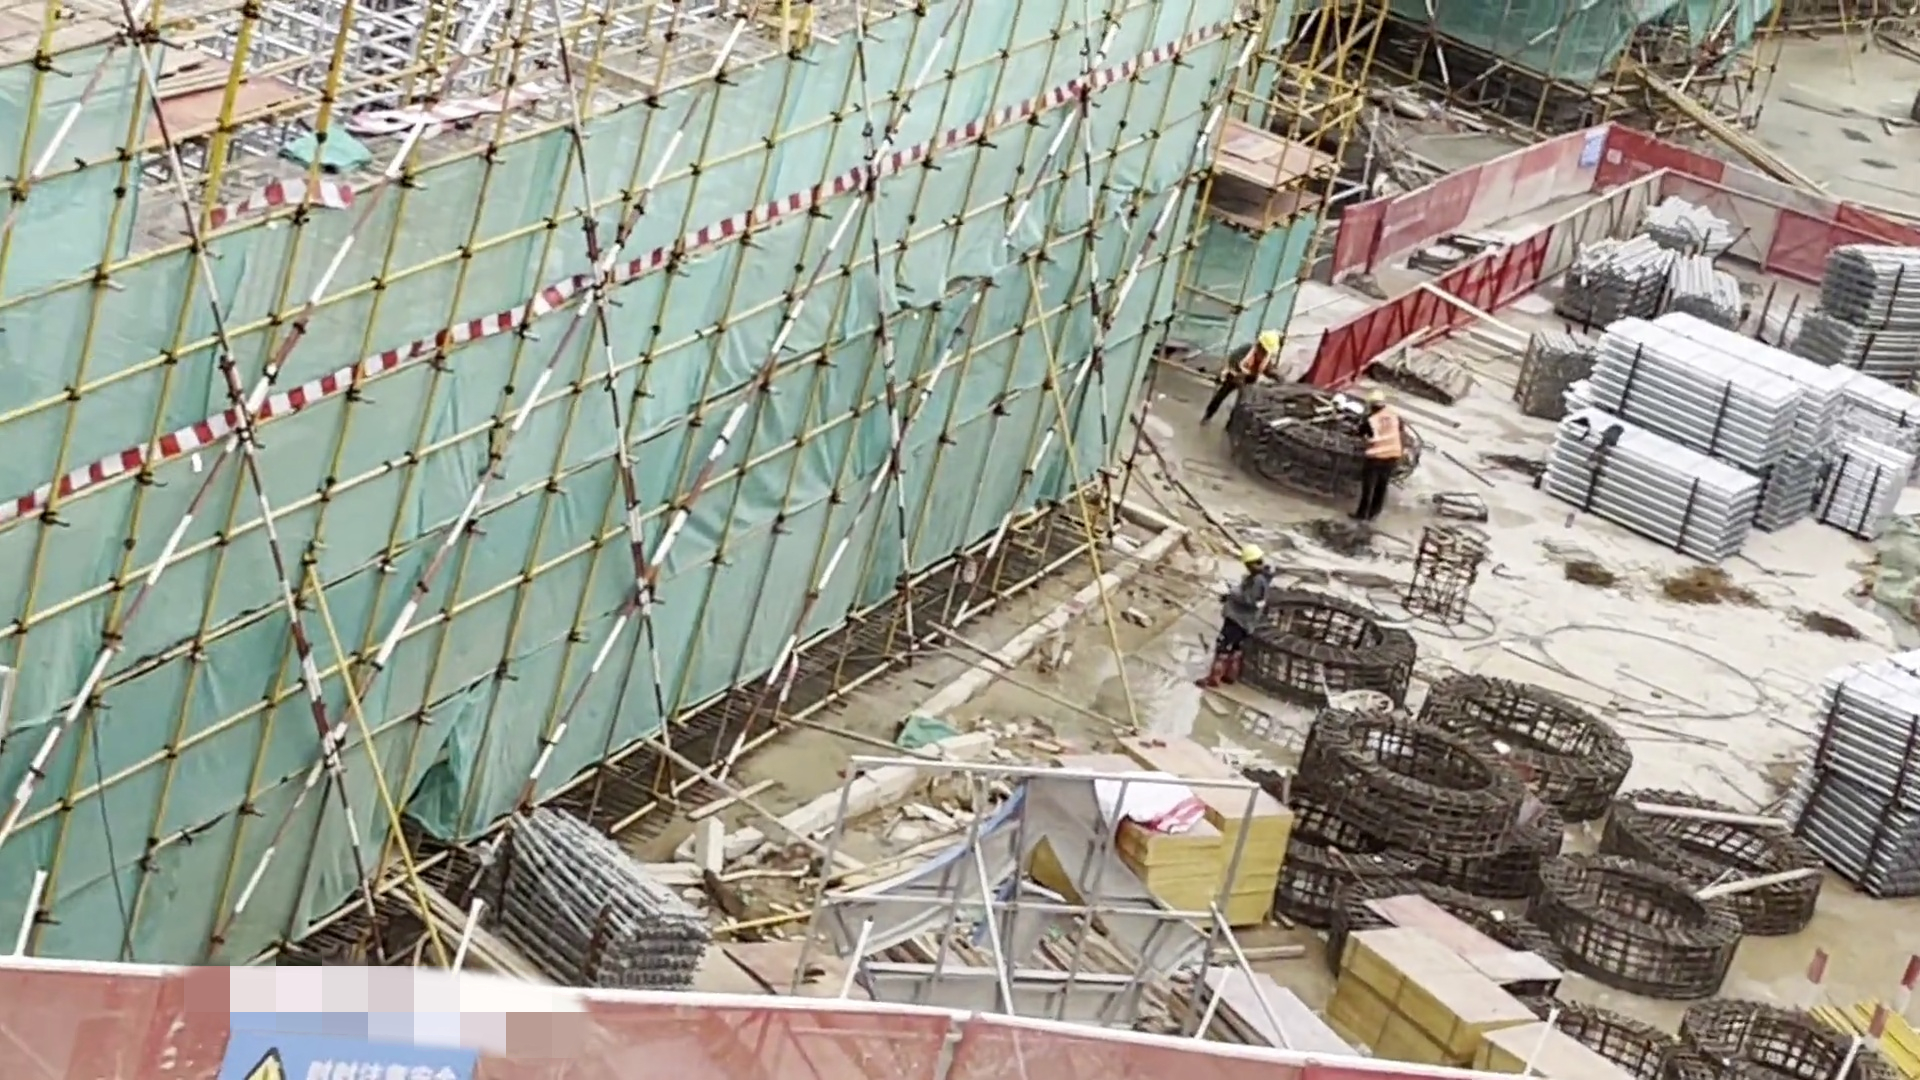board: (1066, 702, 1334, 911), (1316, 886, 1567, 1080)
fence: (1, 927, 1339, 1064), (1353, 60, 1754, 372)
helmet: (1260, 328, 1294, 361), (1363, 386, 1391, 409)
person: (1349, 378, 1409, 531), (1197, 318, 1281, 413)
scaffold: (1581, 301, 1920, 556), (499, 799, 730, 988), (1809, 654, 1920, 851)
vest: (1222, 339, 1281, 394), (1362, 409, 1412, 463)
